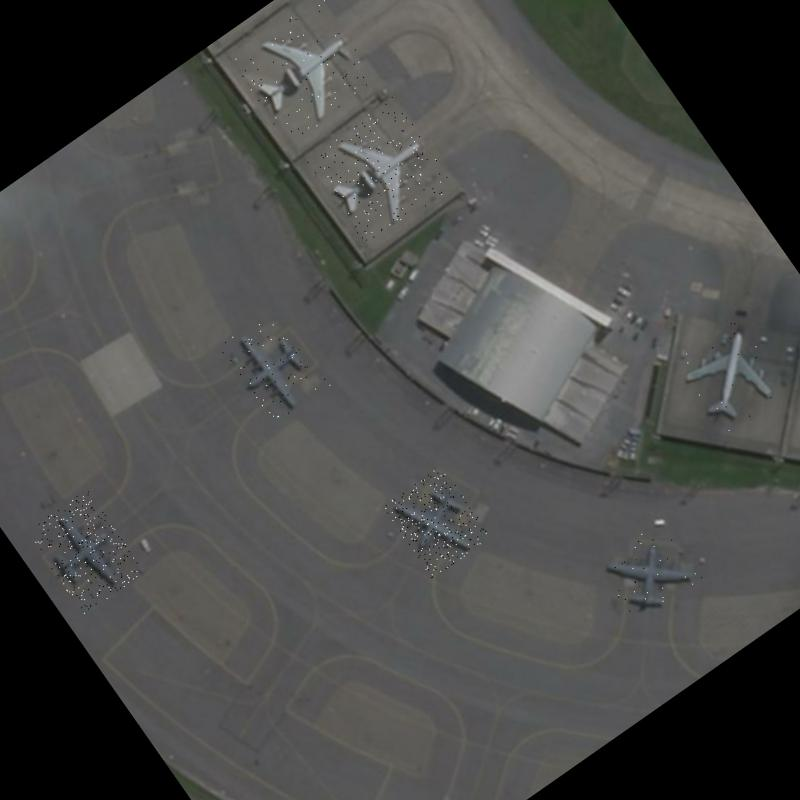A11: (667, 314, 792, 439)
A2: (26, 488, 146, 615), (217, 306, 332, 428), (382, 465, 492, 579), (596, 518, 706, 626)
A7: (305, 96, 456, 247), (229, 0, 381, 145)
